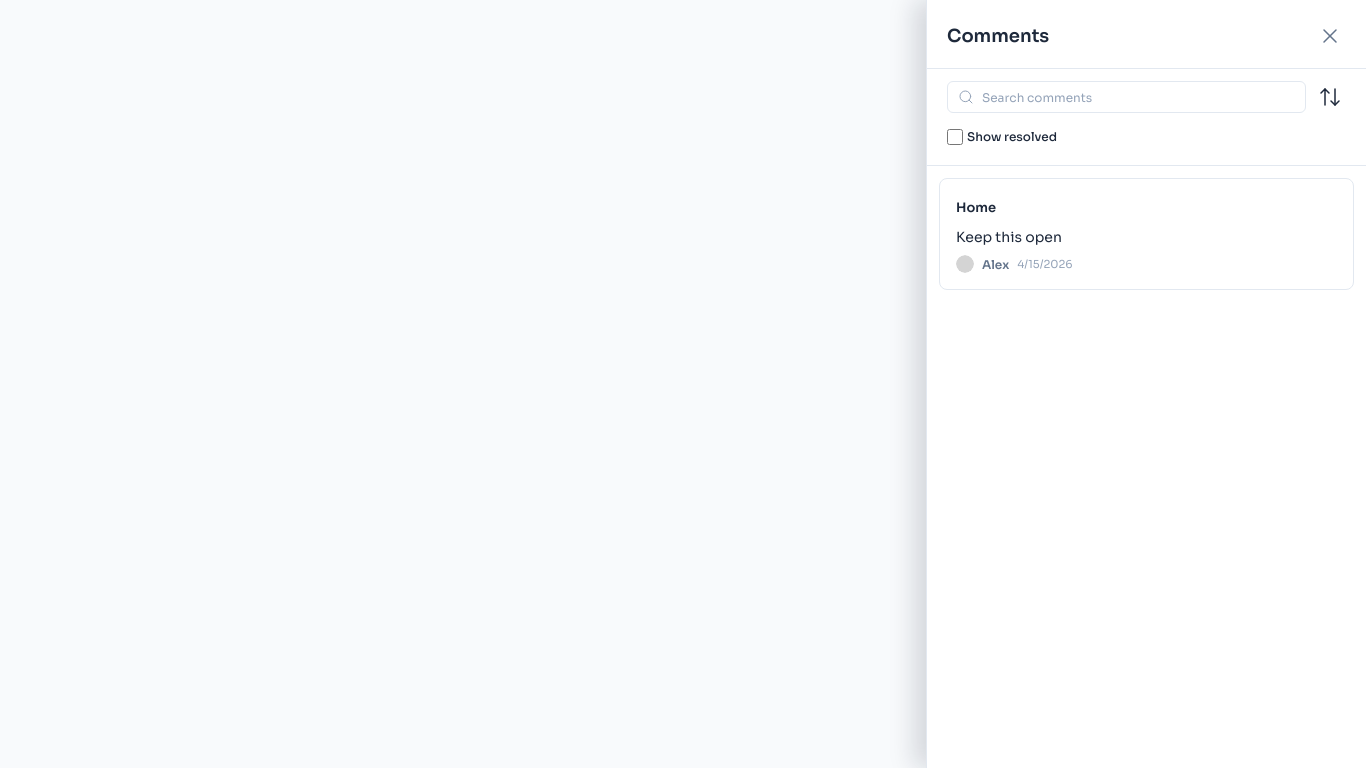
Scenario: CommentsPanel › hides resolved comments by default and shows them when Show resolved is checked
Expected: the text "Done already" is not shown
Click the checkbox labelled "Show resolved" at (955, 137), box [947,129,963,145]
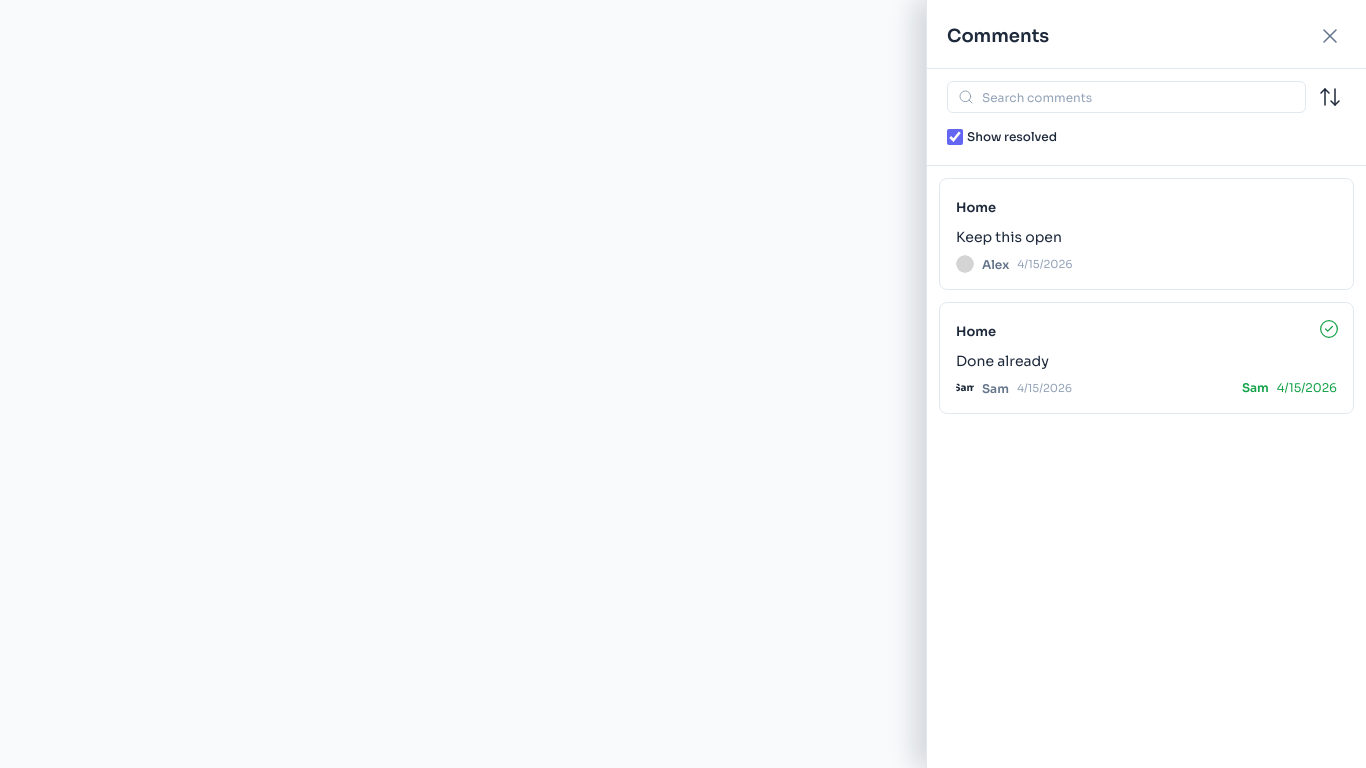
Expected: the text "Done already" is shown, [956,352,1049,370]
Expected: the button with class "checked" is shown, [1317,317,1341,341]
Expected: the element with class "comments-panel-completed-info" shows "Sam", [1242,380,1269,395]
